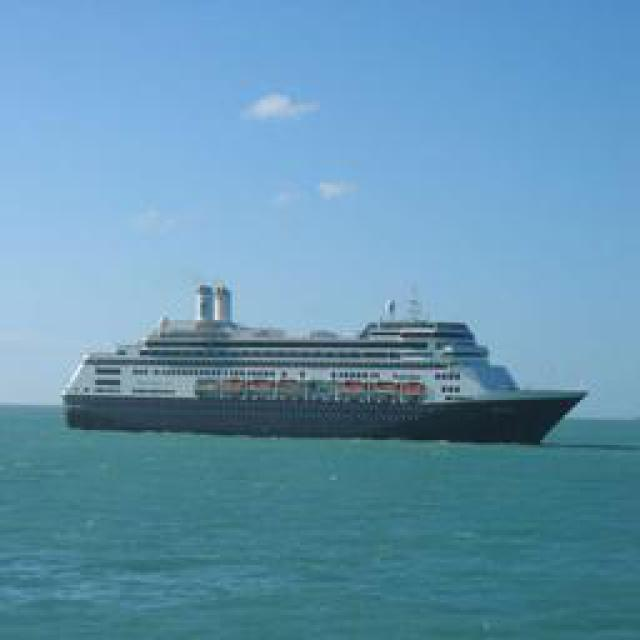Ship: (61, 275, 594, 443)
